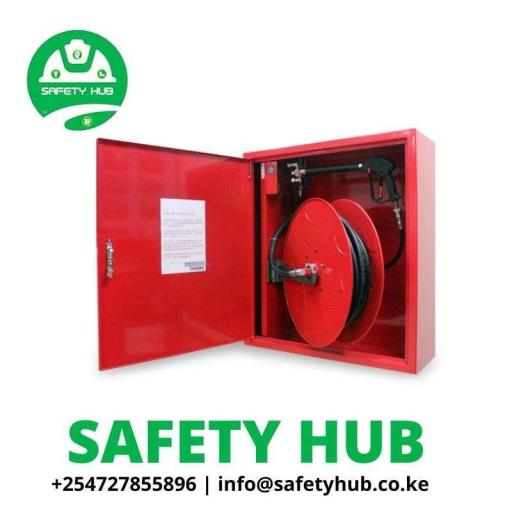fire_hose: (92, 132, 438, 378)
